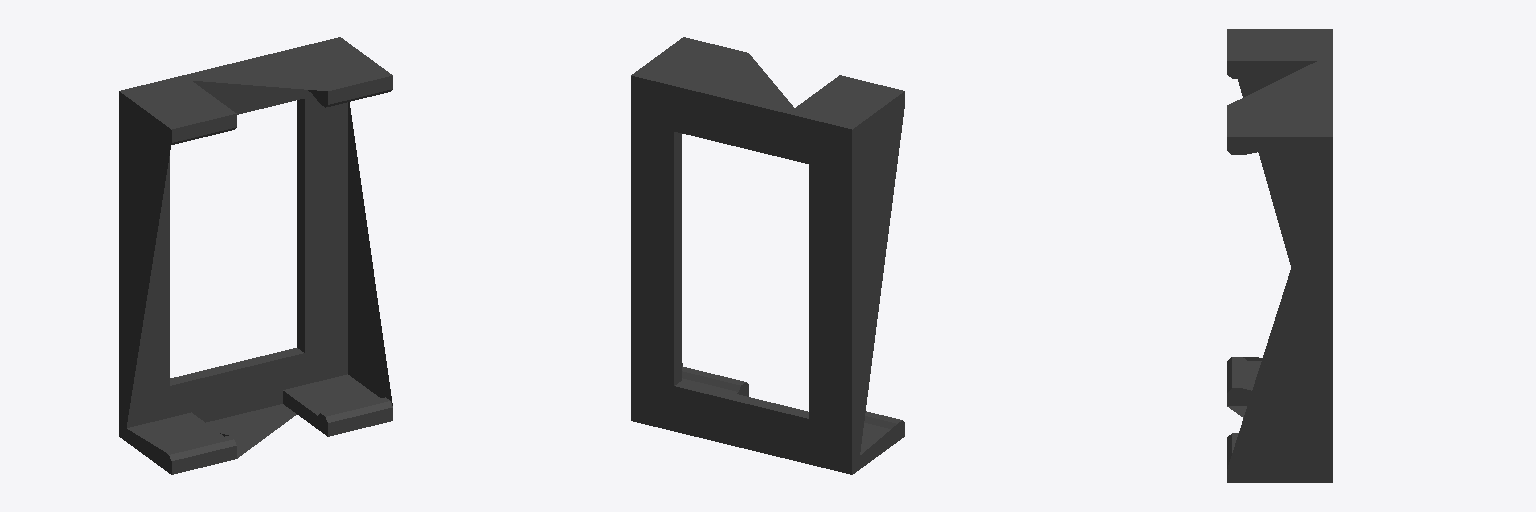
Rendered from RH_CoverV001R01.obj.
The picture shows the model from 3 angles: view 1: azimuth 30°, elevation 25°; view 2: azimuth 150°, elevation 25°; view 3: azimuth 270°, elevation 25°; orthographic projection.
Parts seen in each view (by area): view 1: Mesh1 Group1 Model; view 2: Mesh1 Group1 Model; view 3: Mesh1 Group1 Model.
Boxes of the visible parts, x1=… form: Mesh1 Group1 Model: x1=119, y1=37, x2=392, y2=474; Mesh1 Group1 Model: x1=631, y1=37, x2=904, y2=474; Mesh1 Group1 Model: x1=1227, y1=29, x2=1332, y2=482.
Bounding box in the file's own units: 25.5 × 38 × 10.5.